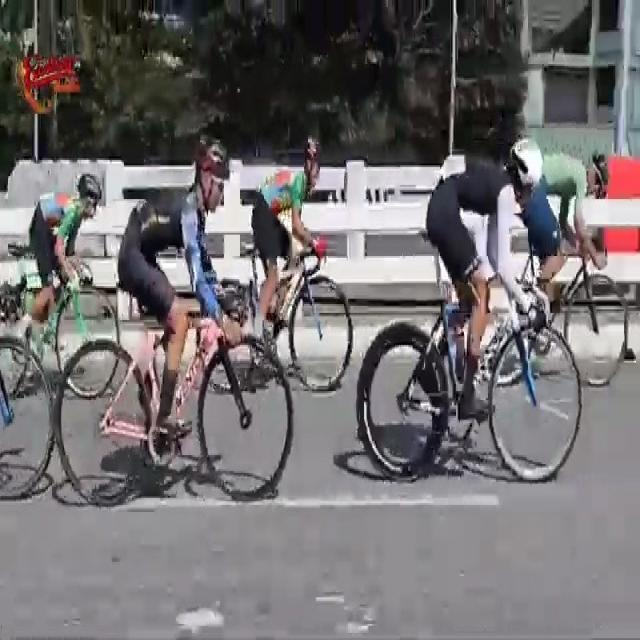bike: (55, 135, 295, 512), (354, 138, 584, 490), (197, 134, 355, 399), (476, 148, 629, 397), (0, 172, 121, 396), (0, 299, 54, 509)
